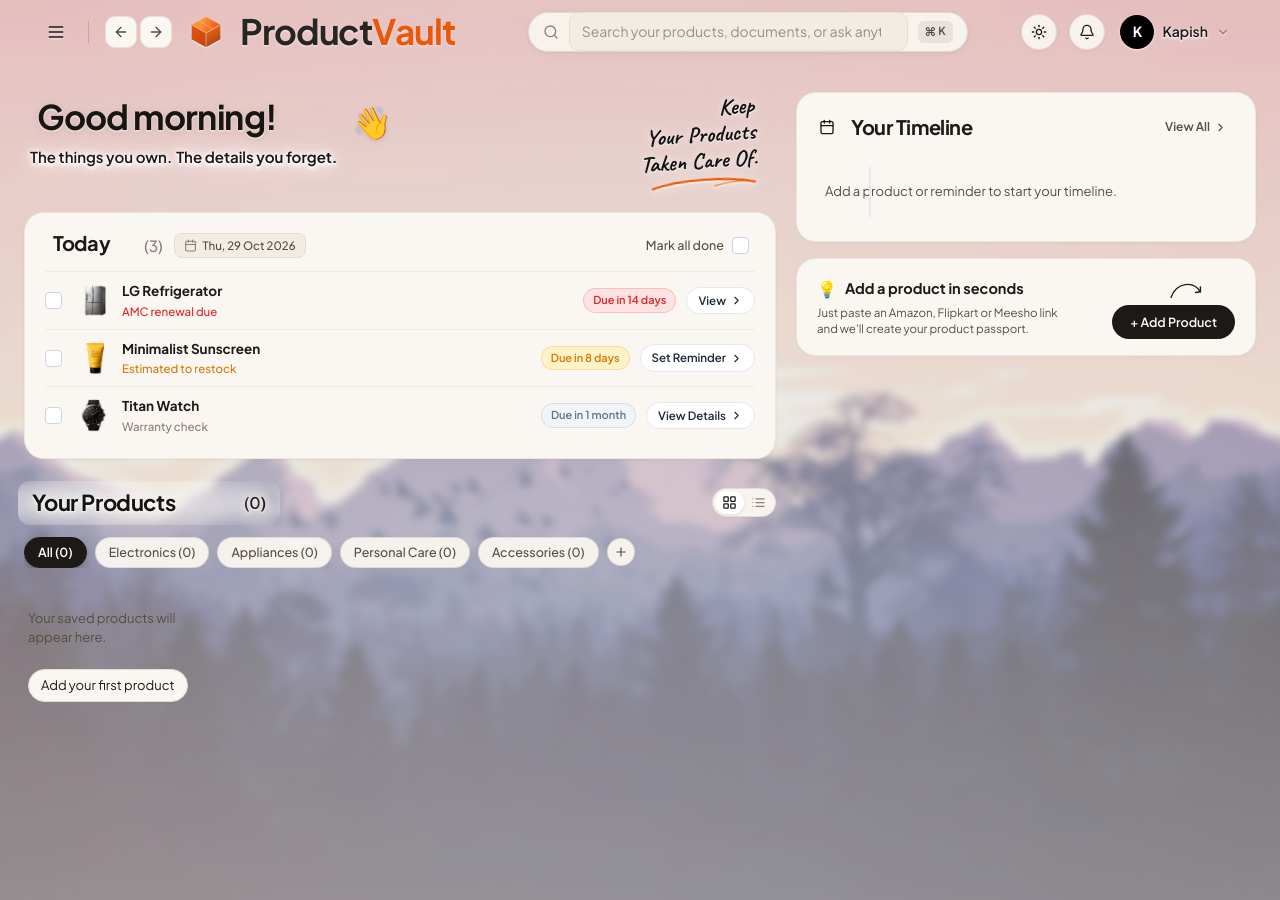
Test: ClaimForge customer workflow › opens the signed-in account menu and its real profile settings page
Click the button with aria-label "account menu". click: (1179, 32)
box: [1118, 12, 1240, 52]
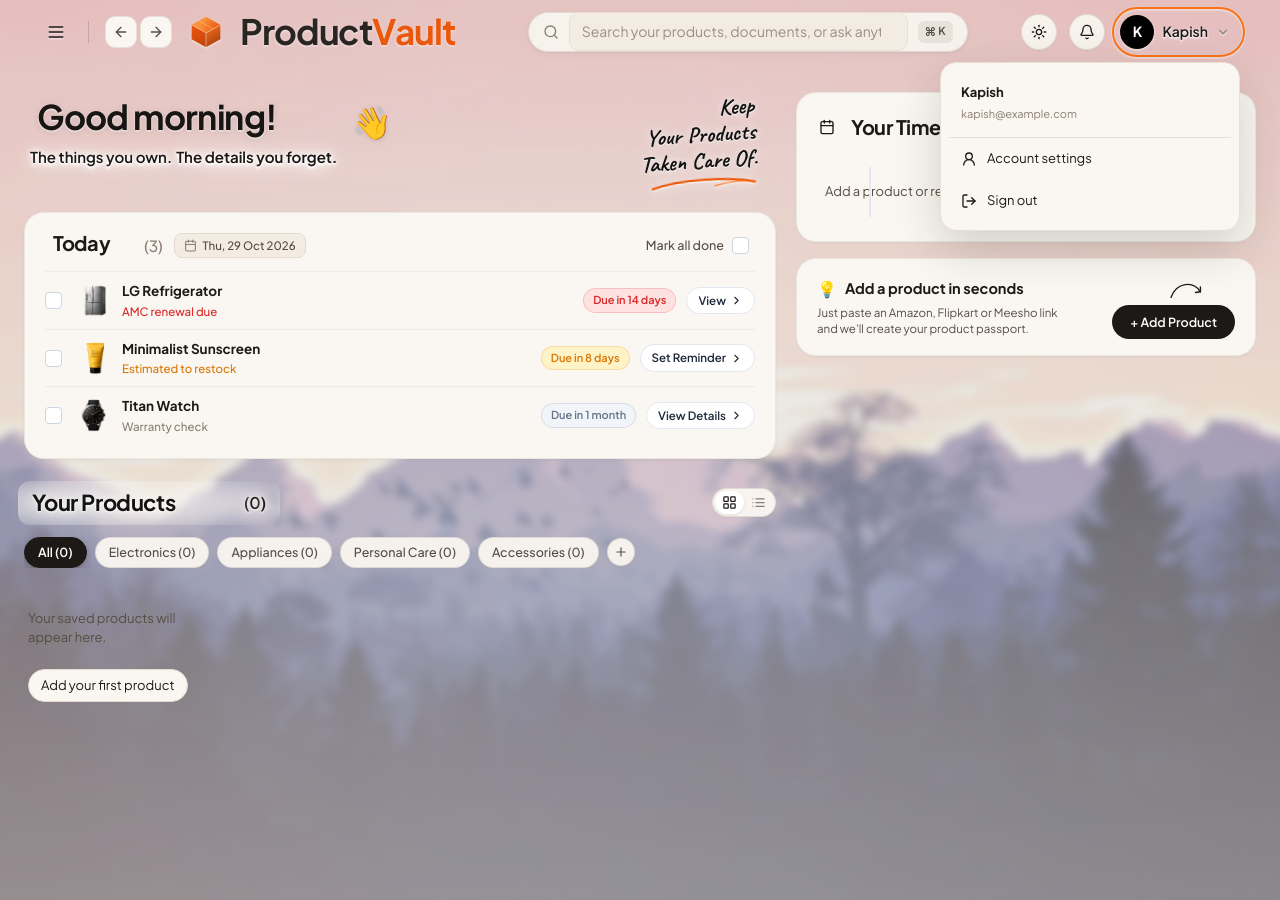
Click the menu item "Account settings". click: (1090, 158)
box: [949, 138, 1231, 180]
(page scrolled)
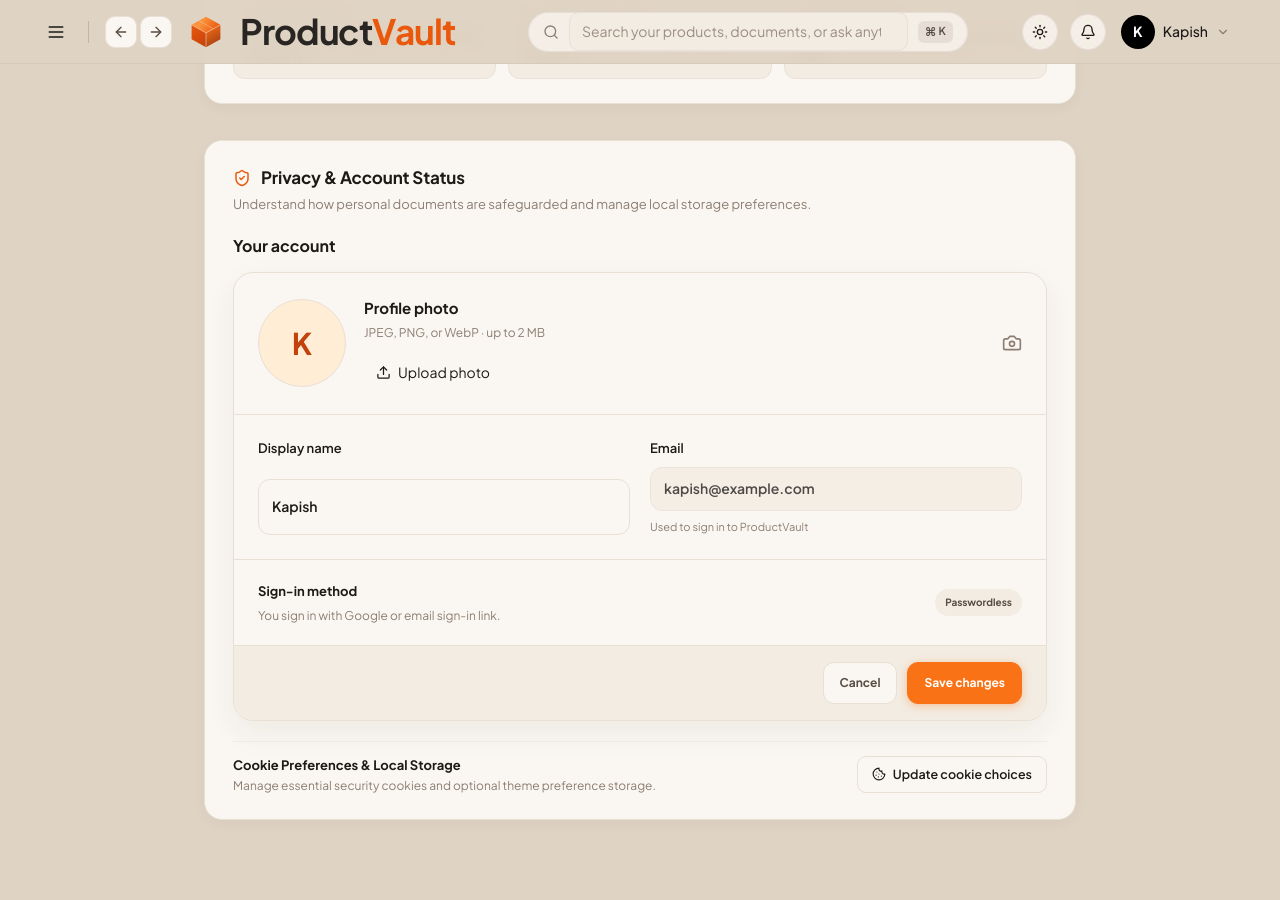
Expected: the heading "Your account" is shown, [233, 235, 336, 256]
Expected: the field showing "kapish@example.com" is disabled, [650, 467, 1022, 511]
